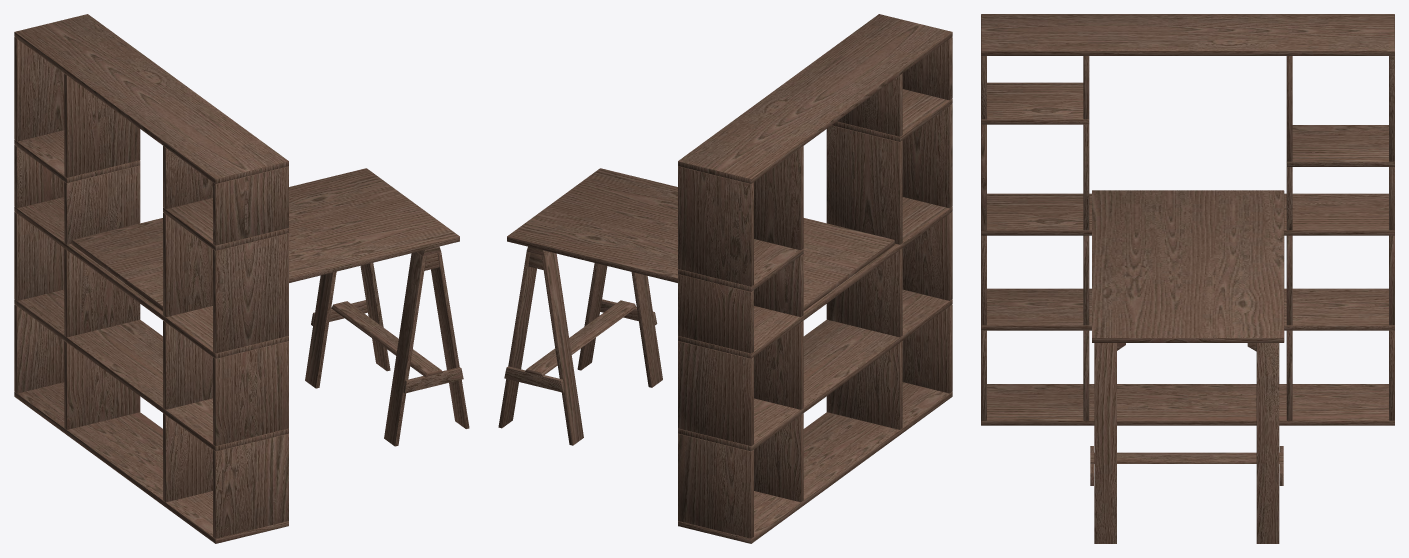
Rendered from bookshelf.fbx.
3 renders of one model, left to right at view 1: azimuth 30°, elevation 25°; view 2: azimuth 150°, elevation 25°; view 3: azimuth 270°, elevation 25°, orthographic. The views are drawn at different scales.
Parts seen in each view (by area): view 1: TableWood32; view 2: TableWood32; view 3: TableWood32.
Boxes of the visible parts, x1=… form: TableWood32: x1=14, y1=14, x2=469, y2=543; TableWood32: x1=498, y1=14, x2=952, y2=543; TableWood32: x1=981, y1=14, x2=1394, y2=543.
Bounding box in the file's own units: 4211 × 4751 × 4749.
1 material, 1 textured.
